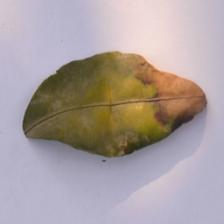black spot: (141, 48, 211, 141)
